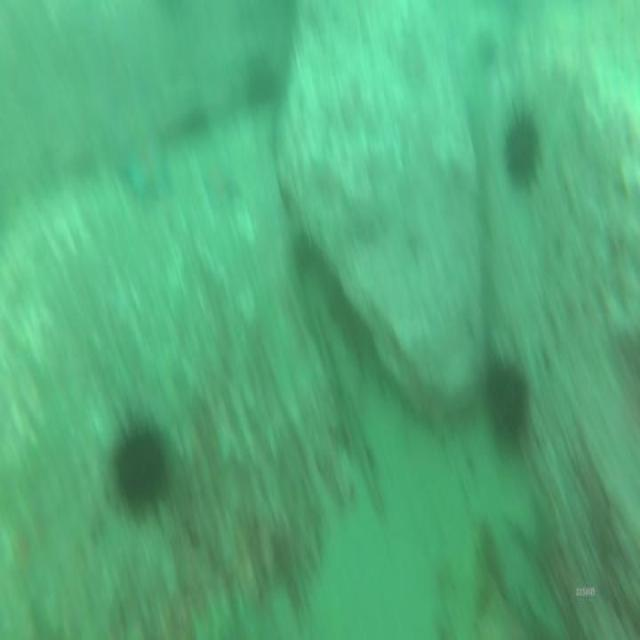echinus: (112, 427, 169, 509), (488, 354, 523, 444), (506, 109, 538, 188)
starfish: (119, 142, 174, 198)
